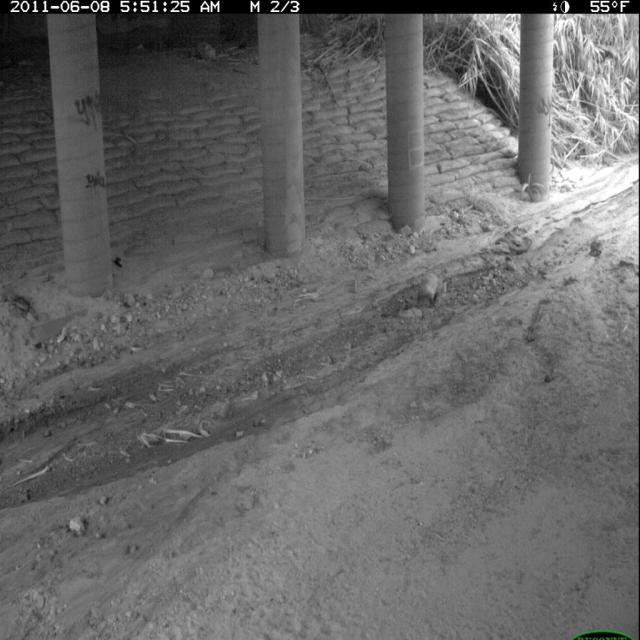opossum: (412, 269, 450, 313)
